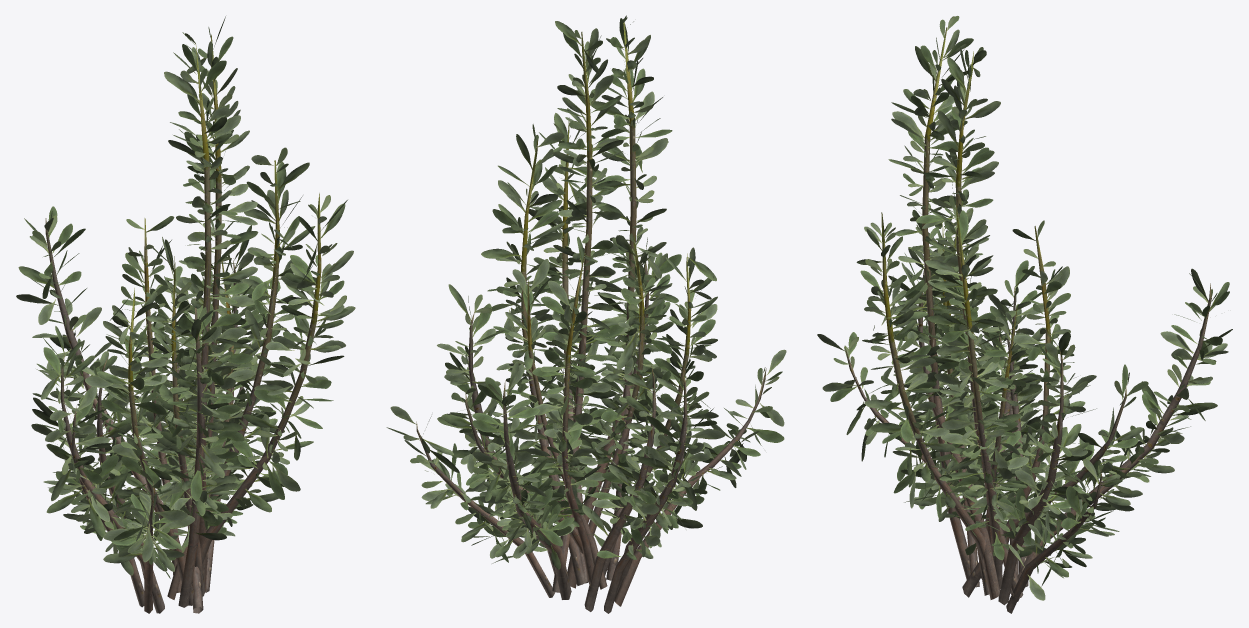
Rendered from othonna_cerarioides_c.gltf.
3 renders of one model, left to right at view 1: azimuth 30°, elevation 25°; view 2: azimuth 150°, elevation 25°; view 3: azimuth 270°, elevation 25°, orthographic. The views are drawn at different scales.
Parts seen in each view (by area): view 1: othonna_cerarioides_c__x; view 2: othonna_cerarioides_c__x; view 3: othonna_cerarioides_c__x.
Boxes of the visible parts, bbox=[...] form: othonna_cerarioides_c__x: bbox=[16, 16, 355, 613]; othonna_cerarioides_c__x: bbox=[386, 15, 786, 613]; othonna_cerarioides_c__x: bbox=[817, 16, 1232, 613].
Size of the model in its own units: 0.7203 by 1.44 by 0.9465.
2 materials, 2 textured.
